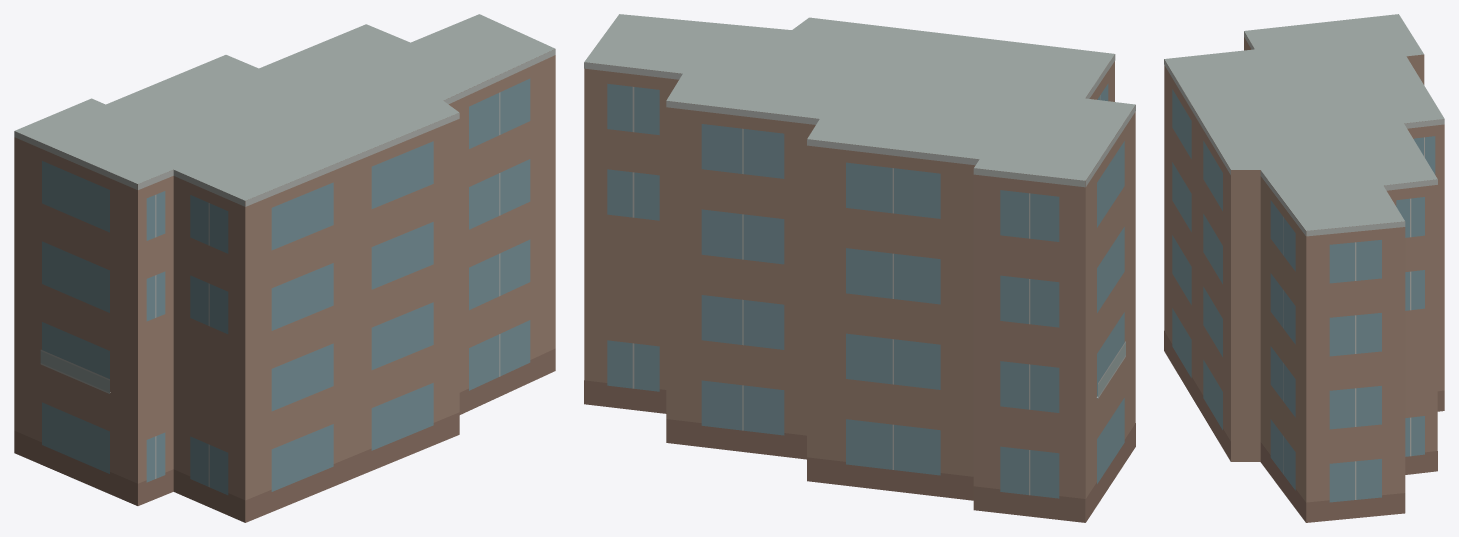
File: survey-upis-32981206.glb
The picture shows the model from 3 angles, left to right: view 1: azimuth 30°, elevation 25°; view 2: azimuth 150°, elevation 25°; view 3: azimuth 270°, elevation 25°; orthographic projection. The views are drawn at different scales.
Visible parts, largest first — view 1: survey-upis-32981206.tmp; view 2: survey-upis-32981206.tmp; view 3: survey-upis-32981206.tmp.
Part boxes in pixels (left/top/right/bottom): survey-upis-32981206.tmp: left=14, top=14, right=555, bottom=522; survey-upis-32981206.tmp: left=584, top=14, right=1135, bottom=522; survey-upis-32981206.tmp: left=1164, top=14, right=1444, bottom=522.
Size of the model in its own units: 20.4 by 12.8 by 11.15.
